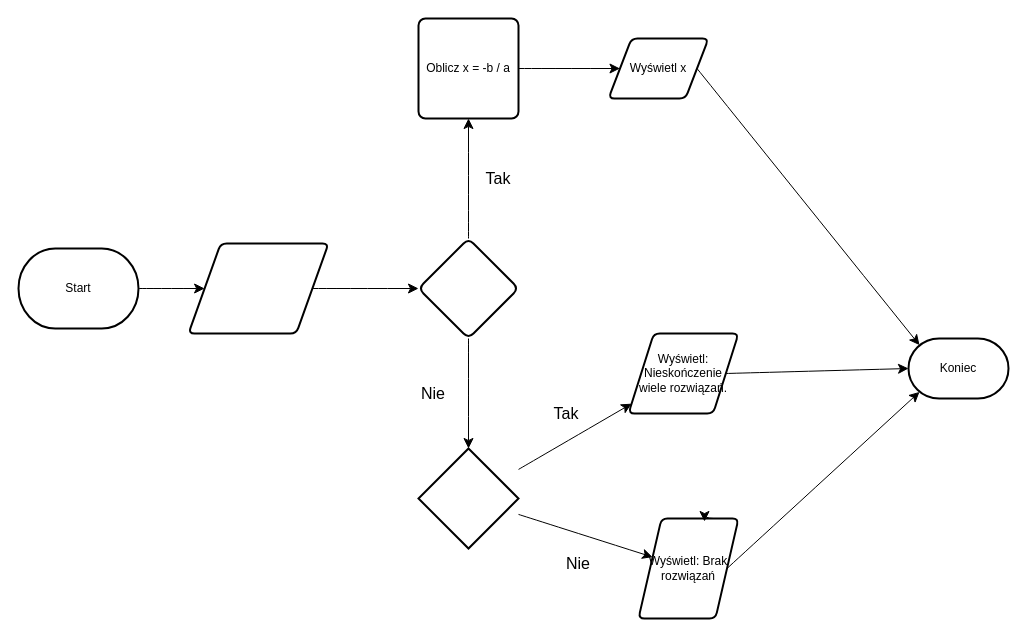
The diagram is 1026 pixels wide and 636 high, and some of its shapes have lost their labels. The centre of each missing label's shape, as x and y in pixels:
"Czy a != 0?" goes at pixel 468 288.
"Czy b == 0?" goes at pixel 468 498.
"Wprowadż a, b" goes at pixel 258 288.
